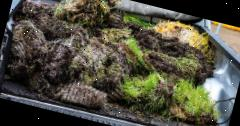organic: (167, 76, 224, 121)
